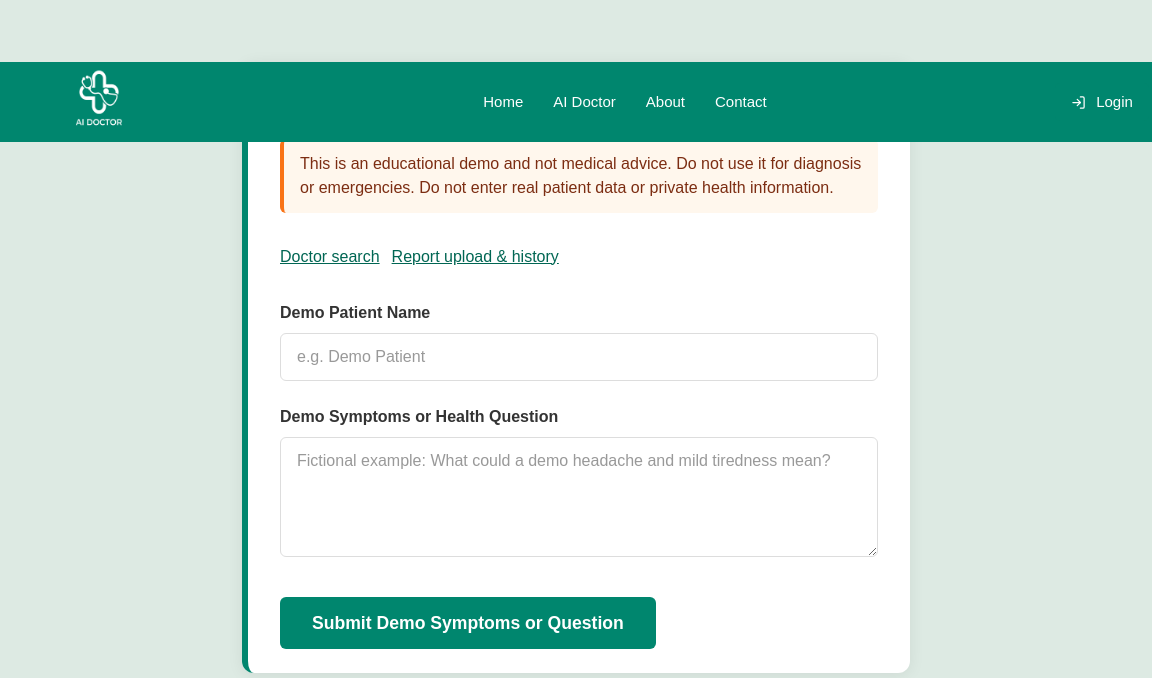
Test: SymptomChecker › labels response provenance false without assuming live AI
Type "Demo Patient" into the field labelled "Demo Patient Name". click: (579, 357)
box: [280, 333, 878, 381]
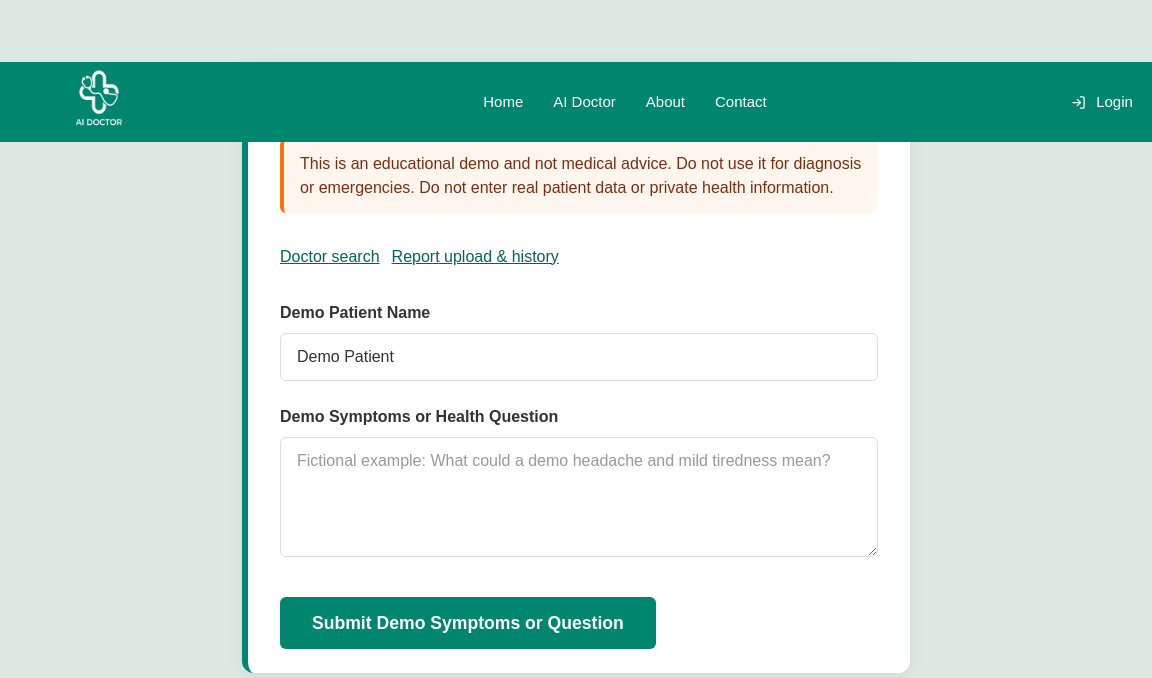
Replace the text in the text box labelled "Demo Symptoms or Health Question" with "Fictional question". click: (579, 497)
box: [280, 437, 878, 557]
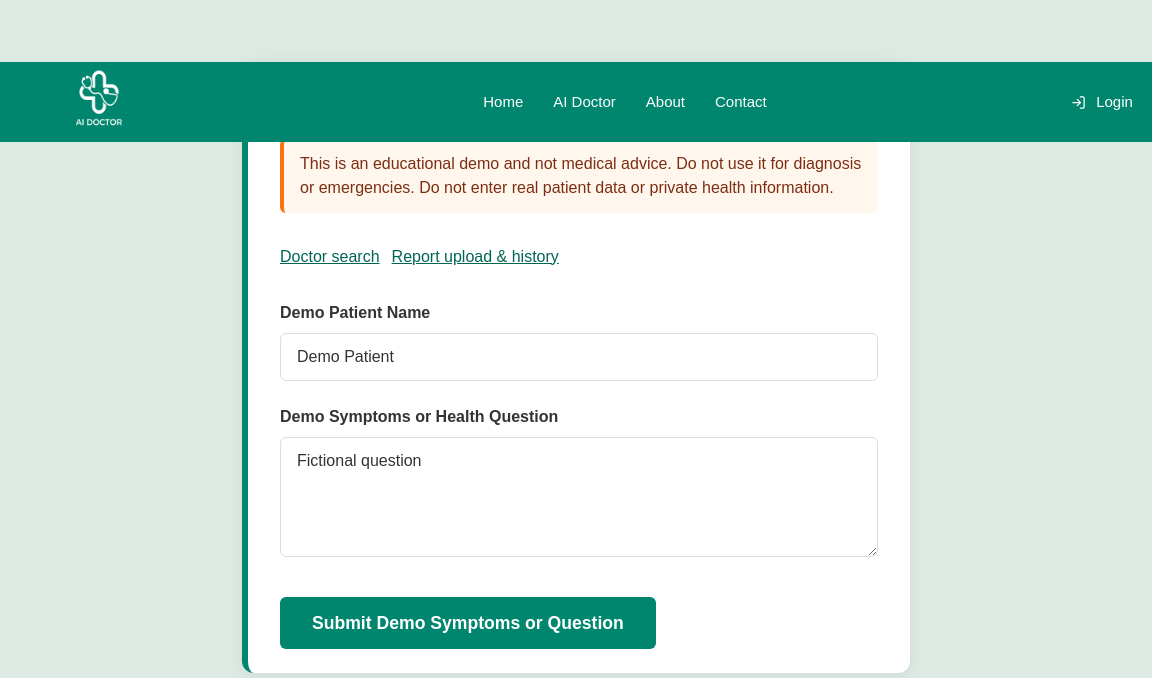
Click the button "Submit Demo Symptoms or Question". click: (468, 623)
box: [280, 597, 656, 649]
(page scrolled)
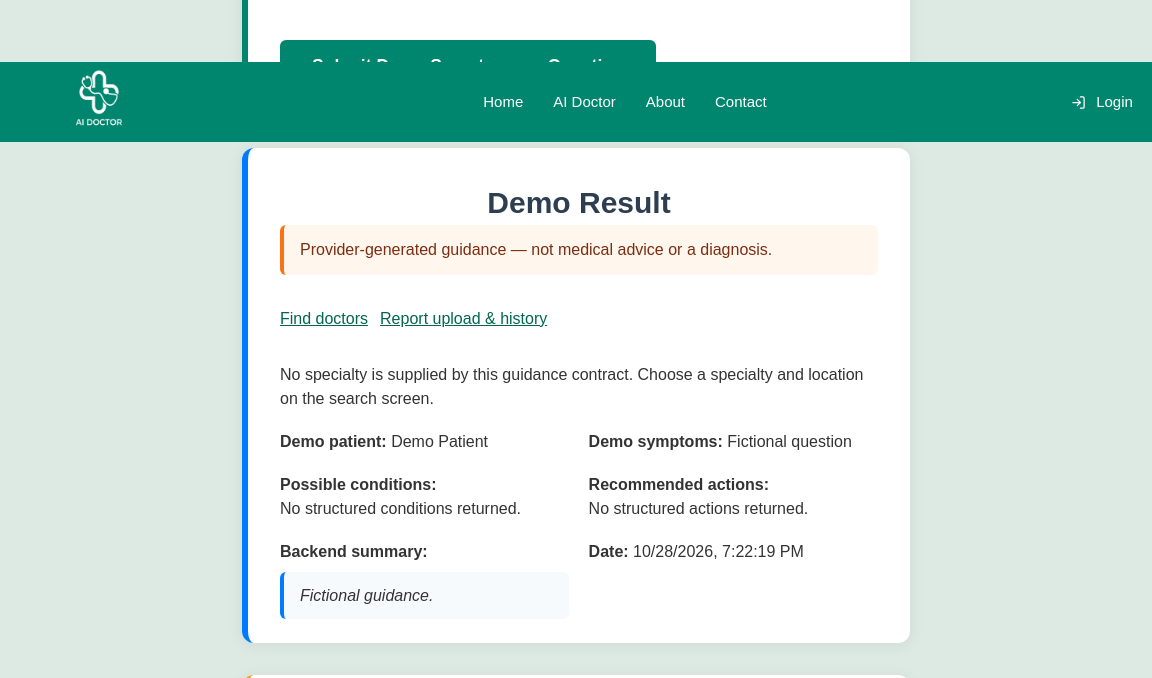
Check: the text "Provider-generated guidance — not medical advice or a diagnosis." is shown, box [280, 225, 878, 275]
